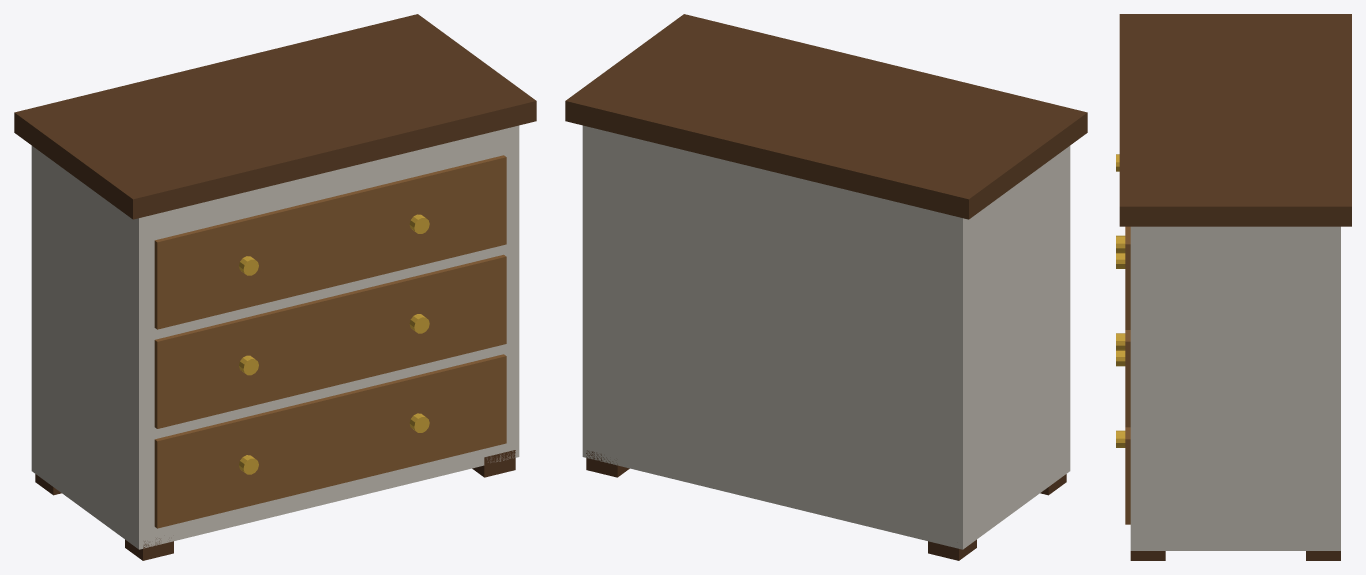
The model's file is dresser.glb.
The picture shows the model from 3 angles, left to right: view 1: azimuth 30°, elevation 25°; view 2: azimuth 150°, elevation 25°; view 3: azimuth 270°, elevation 25°; orthographic projection. The views are drawn at different scales.
Visible parts, largest first — view 1: dresser; view 2: dresser; view 3: dresser.
Boxes of the visible parts, x1,y1,x2,y2 form: dresser: (14,14,536,560); dresser: (565,14,1087,560); dresser: (1116,14,1351,560).
Bounding box in the file's own units: 1.04 × 0.91 × 0.538.
